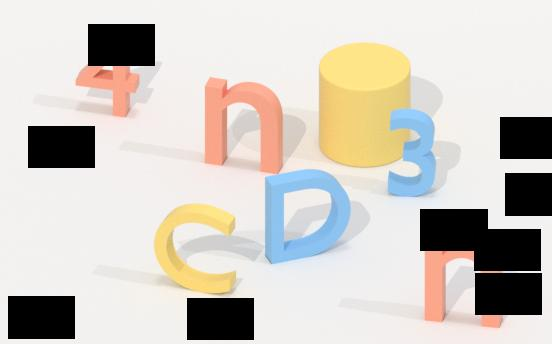3: (385, 108, 441, 203)
4: (74, 27, 144, 118)
c: (150, 201, 247, 296)
d: (260, 170, 358, 265)
n: (194, 75, 296, 175), (415, 231, 512, 331)
tru: (312, 45, 417, 168)
